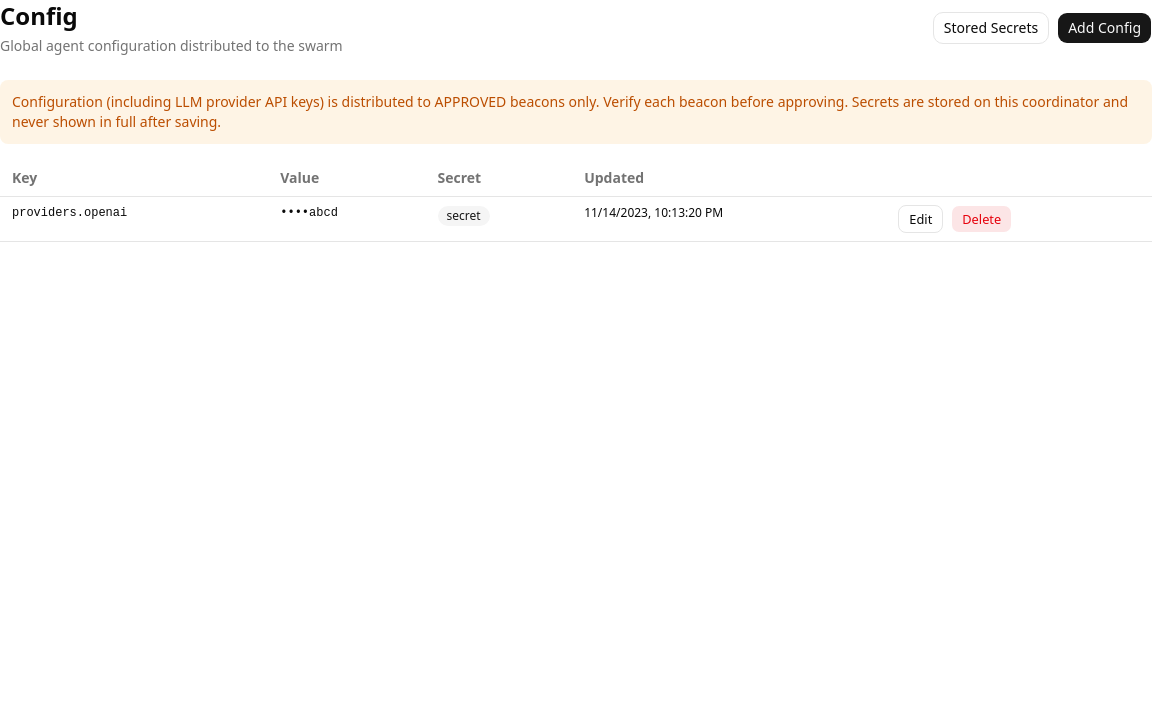
ConfigPage › delete dialog DELETE deletes the entry
The width and height of the screenshot is (1152, 720).
Check: the text "providers.openai" is shown, box x1=0 y1=196 x2=268 y2=242
Step 1. Click the button "Delete" → point(982, 219), box x1=951 y1=205 x2=1012 y2=233
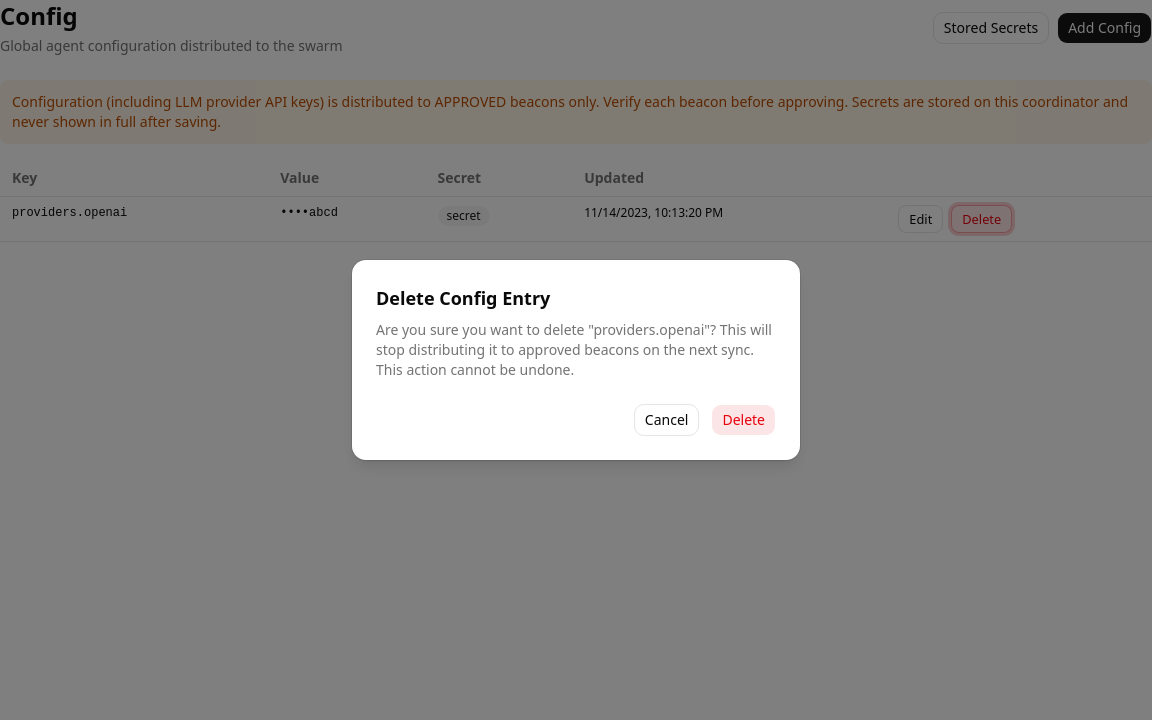
Step 2. Click the button "Delete" → point(744, 420), box x1=711 y1=404 x2=776 y2=436
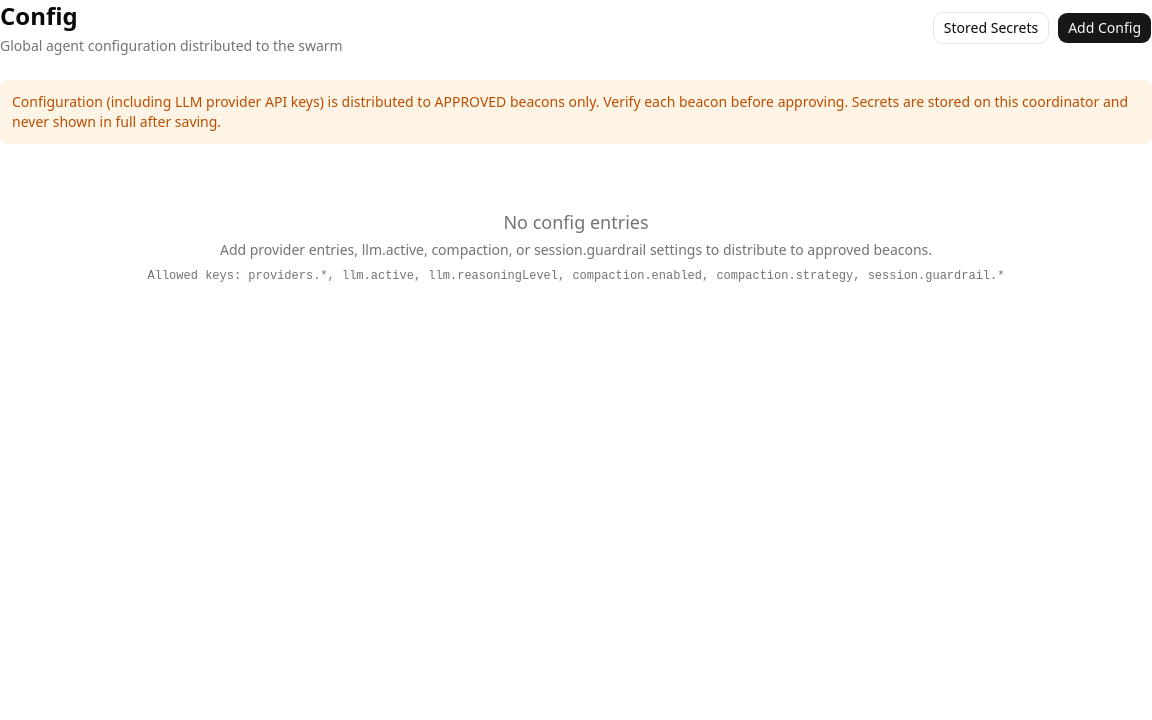
Check: the text "providers.openai" is gone
